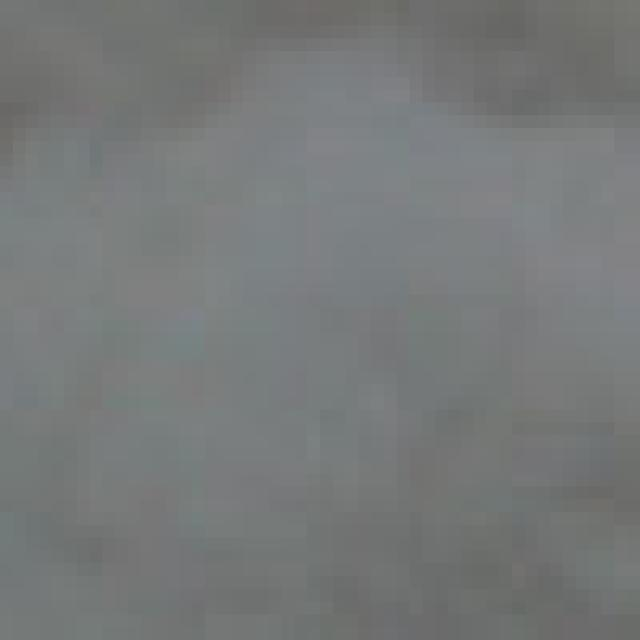fire: (0, 46, 640, 606)
